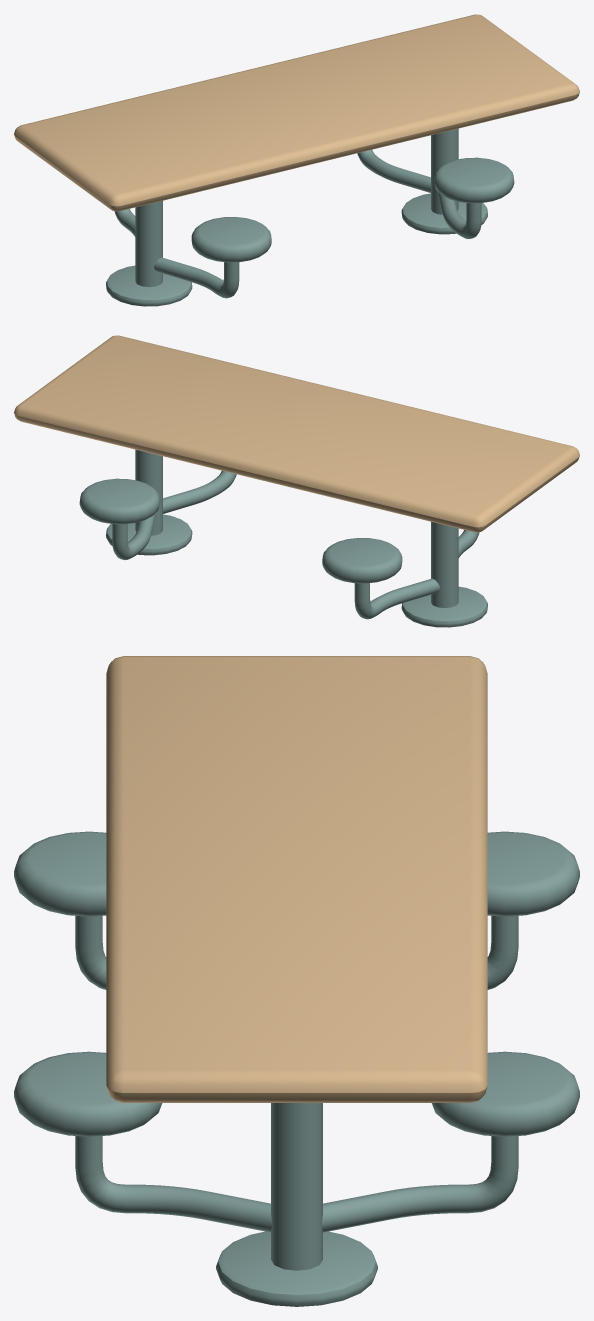
File: table.glb
The picture shows the model from 3 angles, top to bottom: view 1: azimuth 30°, elevation 25°; view 2: azimuth 150°, elevation 25°; view 3: azimuth 270°, elevation 25°; orthographic projection. The views are drawn at different scales.
Parts seen in each view (by area): view 1: wood, paint; view 2: wood, paint; view 3: wood, paint.
Part boxes in pixels (x1,y1,x2,y2): wood: (14,14,579,211); paint: (106,128,514,306); wood: (14,335,579,532); paint: (79,449,487,627); wood: (106,656,487,1102); paint: (14,831,579,1306).
Bounding box in the file's own units: 1.75 × 0.53 × 0.98.
